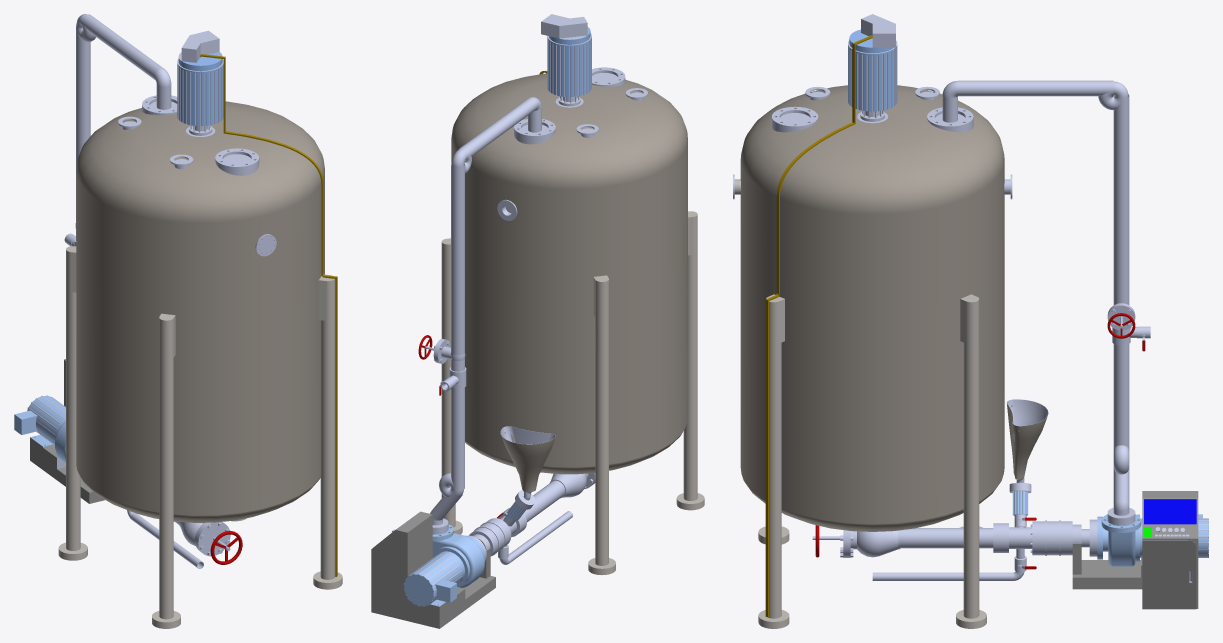
The model's file is Tank.fbx.
The picture shows the model from 3 angles, left to right: view 1: azimuth 30°, elevation 25°; view 2: azimuth 150°, elevation 25°; view 3: azimuth 270°, elevation 25°; orthographic projection. The views are drawn at different scales.
Parts seen in each view (by area): view 1: 5000L Processing Tank.SLDPRT; view 2: 5000L Processing Tank.SLDPRT; view 3: 5000L Processing Tank.SLDPRT.
Boxes of the visible parts, x1,y1,x2,y2 form: 5000L Processing Tank.SLDPRT: (14, 14, 342, 628); 5000L Processing Tank.SLDPRT: (371, 14, 704, 628); 5000L Processing Tank.SLDPRT: (733, 14, 1208, 628).
Size of the model in its own units: 170 by 396 by 307.
